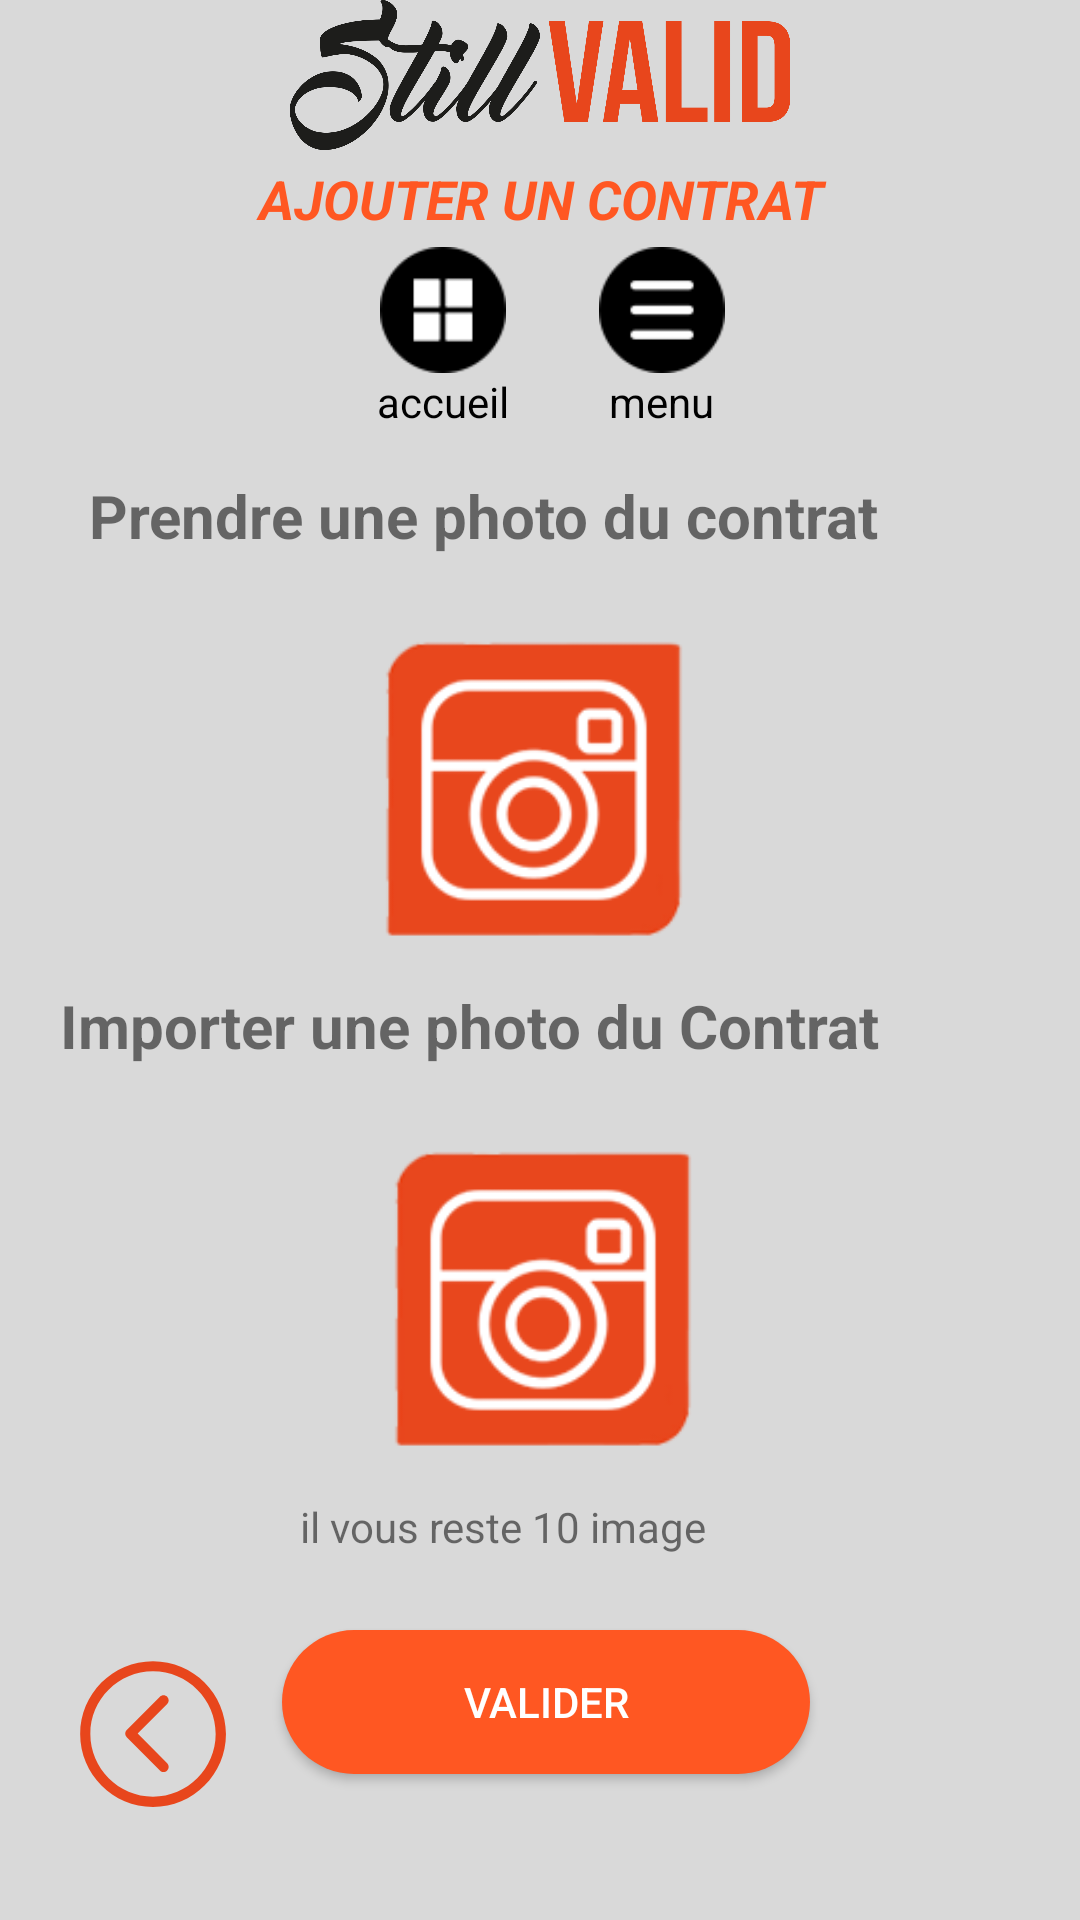

Where icons sit on this 1080 x 1920 app screen, as bbox=(x1, y1, x2, y2):
camera: bbox=(386, 642, 682, 936), bbox=(395, 1152, 691, 1446)
left: bbox=(80, 1661, 226, 1807)
